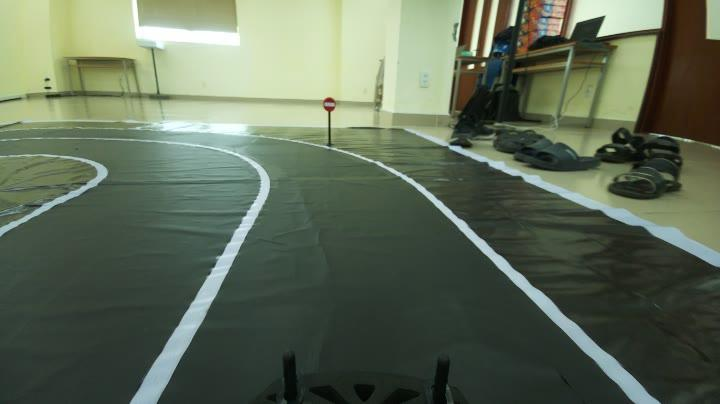no_entry: (322, 94, 337, 116)
